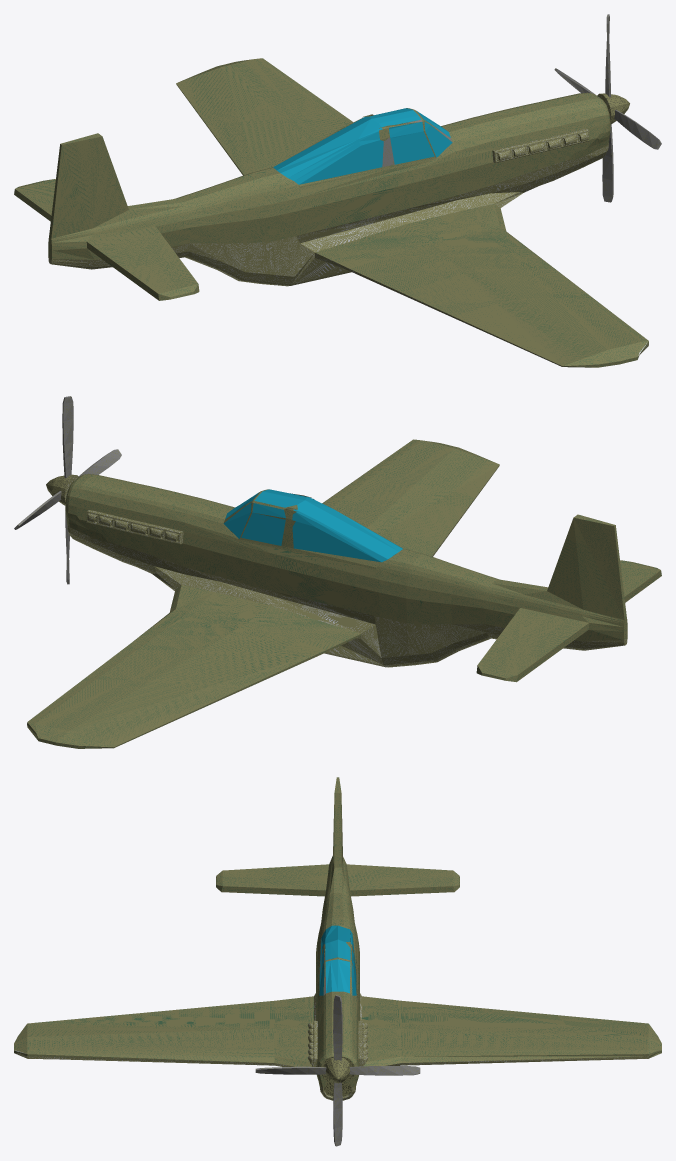
The picture shows the model from 3 angles, top to bottom: view 1: azimuth 30°, elevation 25°; view 2: azimuth 150°, elevation 25°; view 3: azimuth 270°, elevation 25°; orthographic projection. The views are drawn at different scales.
Parts seen in each view (by area): view 1: mesh8_mesh8-geometry, mesh7_mesh7-geometry, mesh4_mesh4-geometry, mesh2_mesh2-geometry; view 2: mesh8_mesh8-geometry, mesh6_mesh6-geometry, mesh1_mesh1-geometry; view 3: mesh8_mesh8-geometry, mesh3_mesh3-geometry, mesh1_mesh1-geometry, mesh4_mesh4-geometry, mesh2_mesh2-geometry.
Boxes of the visible parts, left/top/right/bottom form: mesh8_mesh8-geometry: left=14, top=58, right=648, bottom=367; mesh7_mesh7-geometry: left=492, top=128, right=589, bottom=162; mesh4_mesh4-geometry: left=602, top=124, right=613, bottom=202; mesh2_mesh2-geometry: left=614, top=109, right=661, bottom=149; mesh8_mesh8-geometry: left=27, top=439, right=661, bottom=748; mesh6_mesh6-geometry: left=86, top=510, right=183, bottom=544; mesh1_mesh1-geometry: left=62, top=396, right=73, bottom=478; mesh8_mesh8-geometry: left=14, top=777, right=661, bottom=1100; mesh3_mesh3-geometry: left=349, top=1066, right=420, bottom=1075; mesh1_mesh1-geometry: left=333, top=995, right=342, bottom=1060; mesh4_mesh4-geometry: left=333, top=1082, right=342, bottom=1146; mesh2_mesh2-geometry: left=255, top=1066, right=326, bottom=1074.
Size of the model in its own units: 0.6263 by 0.1996 by 0.7536.
